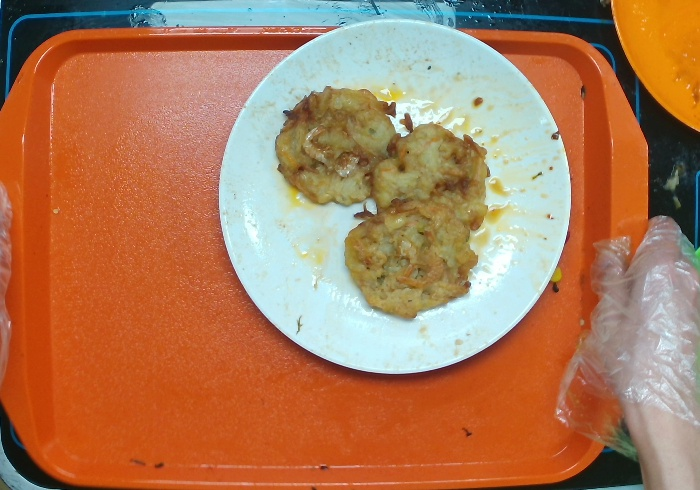HZYJPL-Bai_Se_Yuan_Pan: (216, 16, 573, 376)
